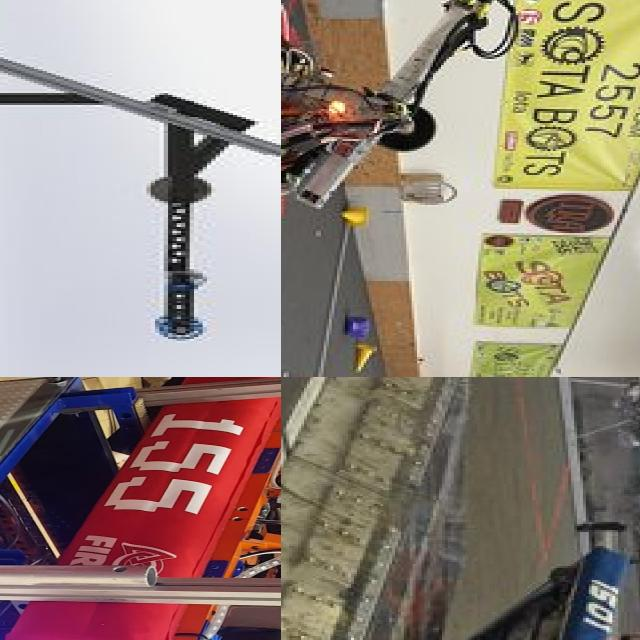FRC-Robots: (0, 0, 269, 377), (0, 377, 281, 640), (281, 0, 563, 240), (399, 535, 640, 640)
